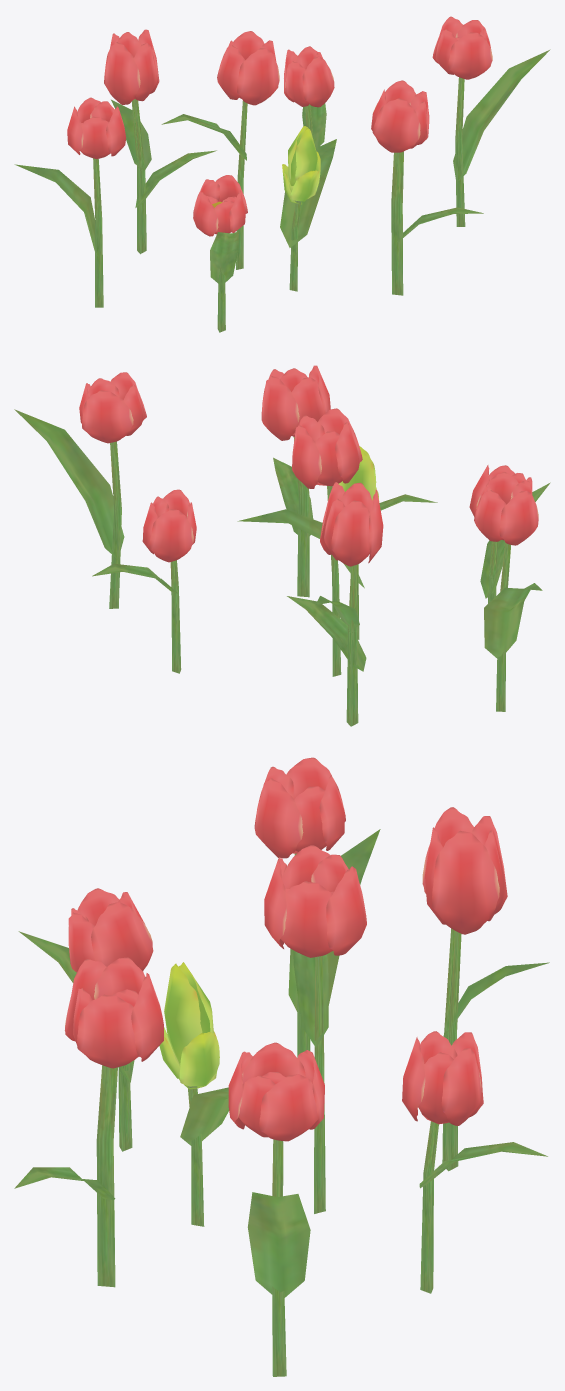
The model's file is P_TulipsRed.obj.
The picture shows the model from 3 angles, top to bottom: view 1: azimuth 30°, elevation 25°; view 2: azimuth 150°, elevation 25°; view 3: azimuth 270°, elevation 25°; orthographic projection. The views are drawn at different scales.
Size of the model in its own units: 2.34 by 1.01 by 1.35.
